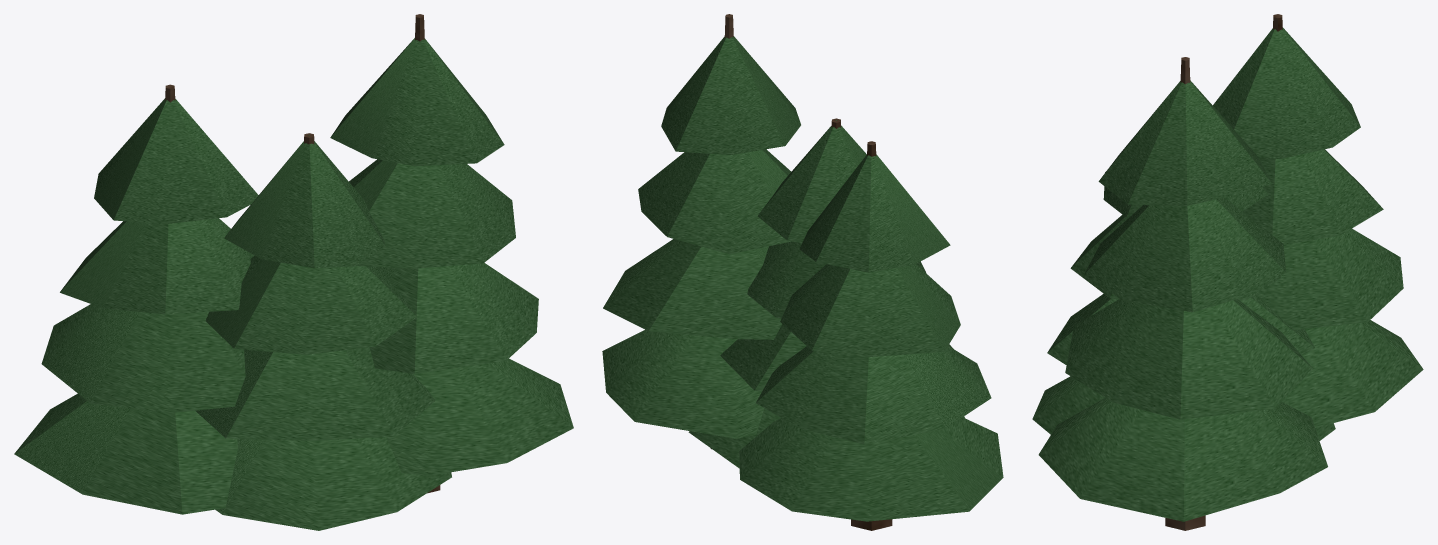
File: resource_lumber_2.glb
3 views of the same model, side by side, from view 1: azimuth 30°, elevation 25°; view 2: azimuth 150°, elevation 25°; view 3: azimuth 270°, elevation 25° (orthographic). The views are drawn at different scales.
Parts seen in each view (by area): view 1: resource_lumber_2; view 2: resource_lumber_2; view 3: resource_lumber_2.
Boxes of the visible parts, <box> form: resource_lumber_2: <box>14,14,573,530</box>; resource_lumber_2: <box>602,14,1003,530</box>; resource_lumber_2: <box>1032,14,1423,530</box>.
Size of the model in its own units: 6.82 by 6.45 by 4.95.
2 materials, 2 textured.
